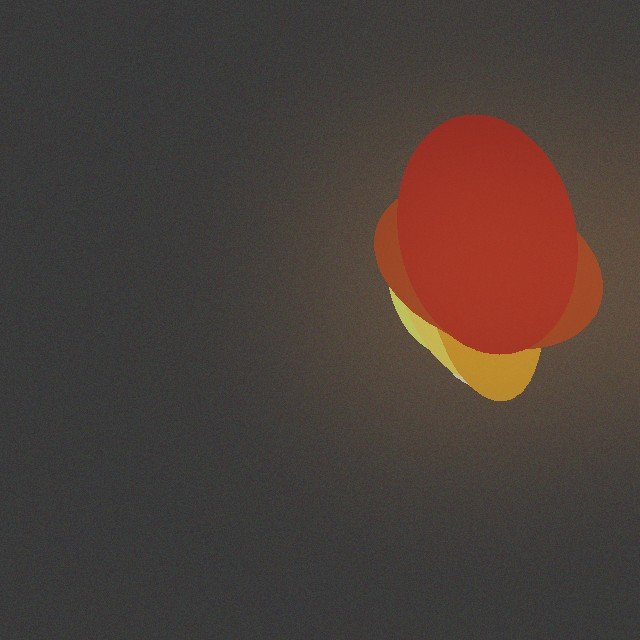fire: (357, 170, 589, 384)
